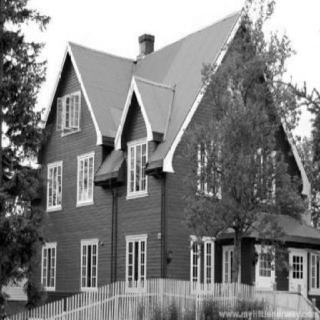other: (35, 49, 183, 275)
